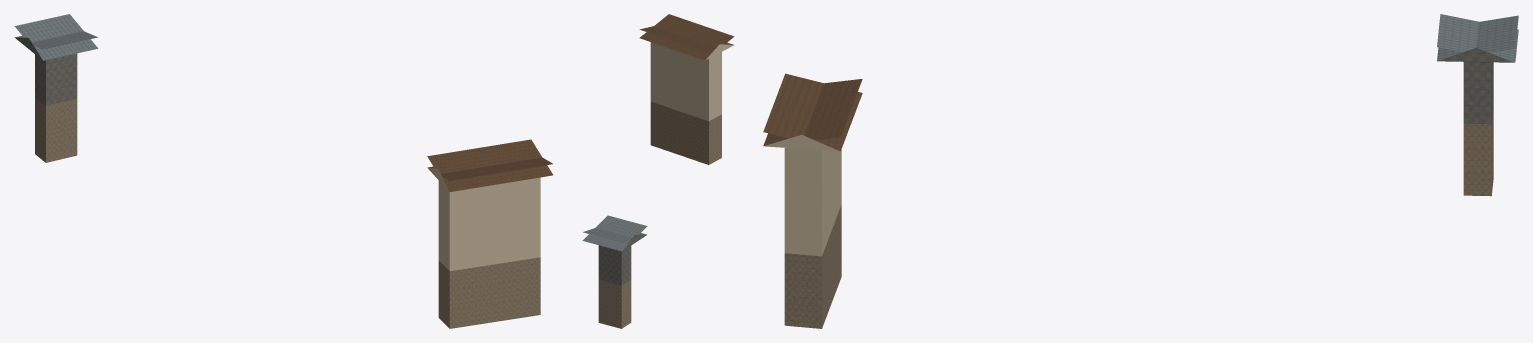
The model's file is bld_c32_-39_457.gltf.
The picture shows the model from 3 angles, left to right: view 1: azimuth 30°, elevation 25°; view 2: azimuth 150°, elevation 25°; view 3: azimuth 270°, elevation 25°; orthographic projection. The views are drawn at different scales.
Parts seen in each view (by area): view 1: bld_c32_-39_457; view 2: bld_c32_-39_457; view 3: bld_c32_-39_457.
Part boxes in pixels (x1=…): bld_c32_-39_457: x1=14, y1=14, x2=552, y2=328; bld_c32_-39_457: x1=582, y1=14, x2=734, y2=328; bld_c32_-39_457: x1=763, y1=14, x2=1518, y2=328.
Size of the model in its own units: 23.1 by 13.8 by 48.15.
Materials: 7 (7 with a texture image).
